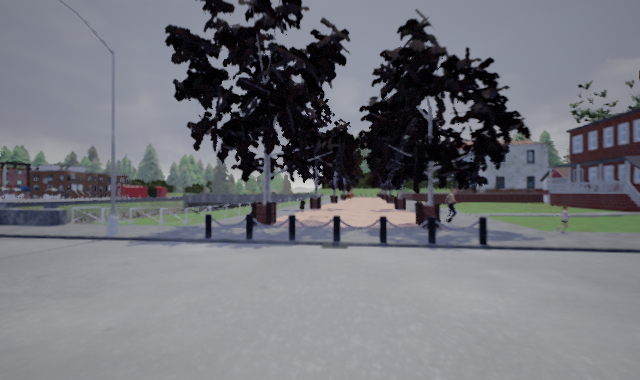pedestrian: (440, 186, 459, 223), (553, 203, 574, 233)
